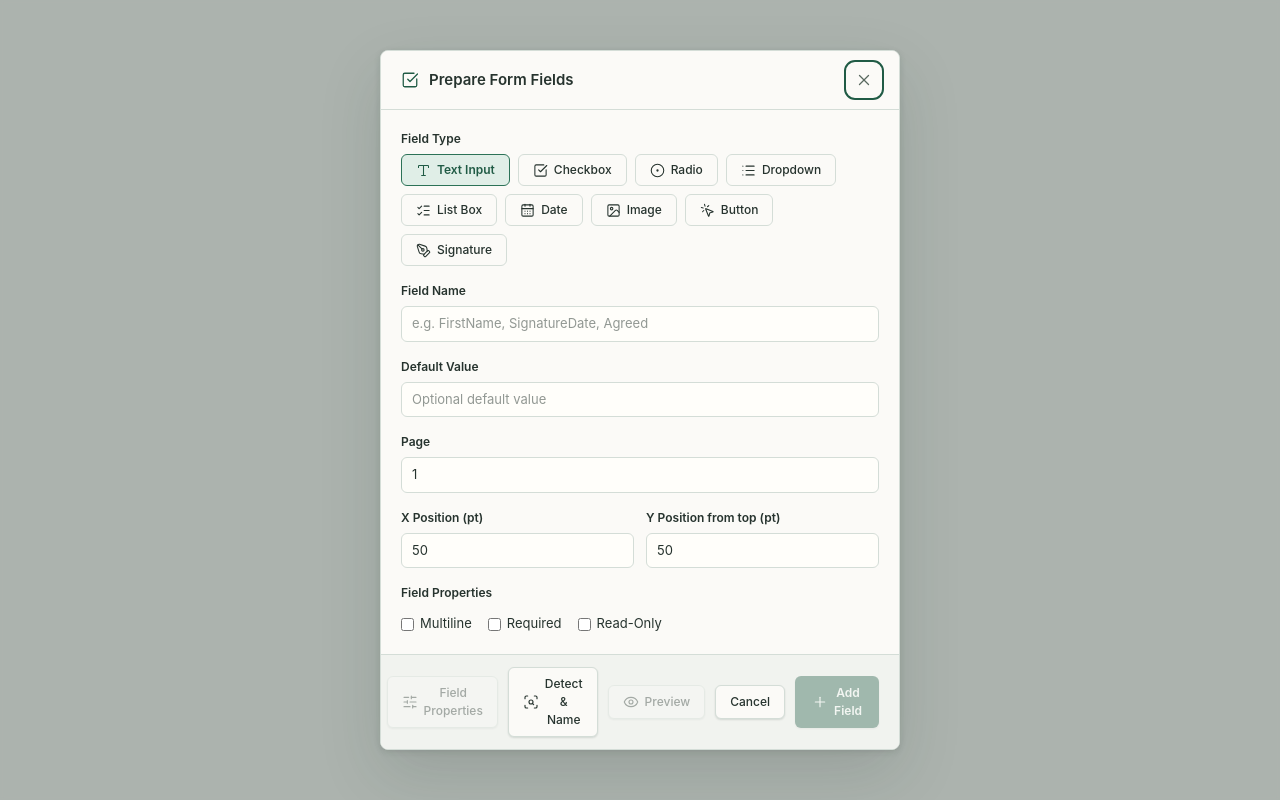
FormManager › renders all supported field types and switches between them
Expected: the button "Text Input" is shown, [401,154,510,186]
Expected: the button "Radio" is shown, [635,154,718,186]
Click the button "Checkbox" at {"x": 572, "y": 170}, box [518,154,627,186]
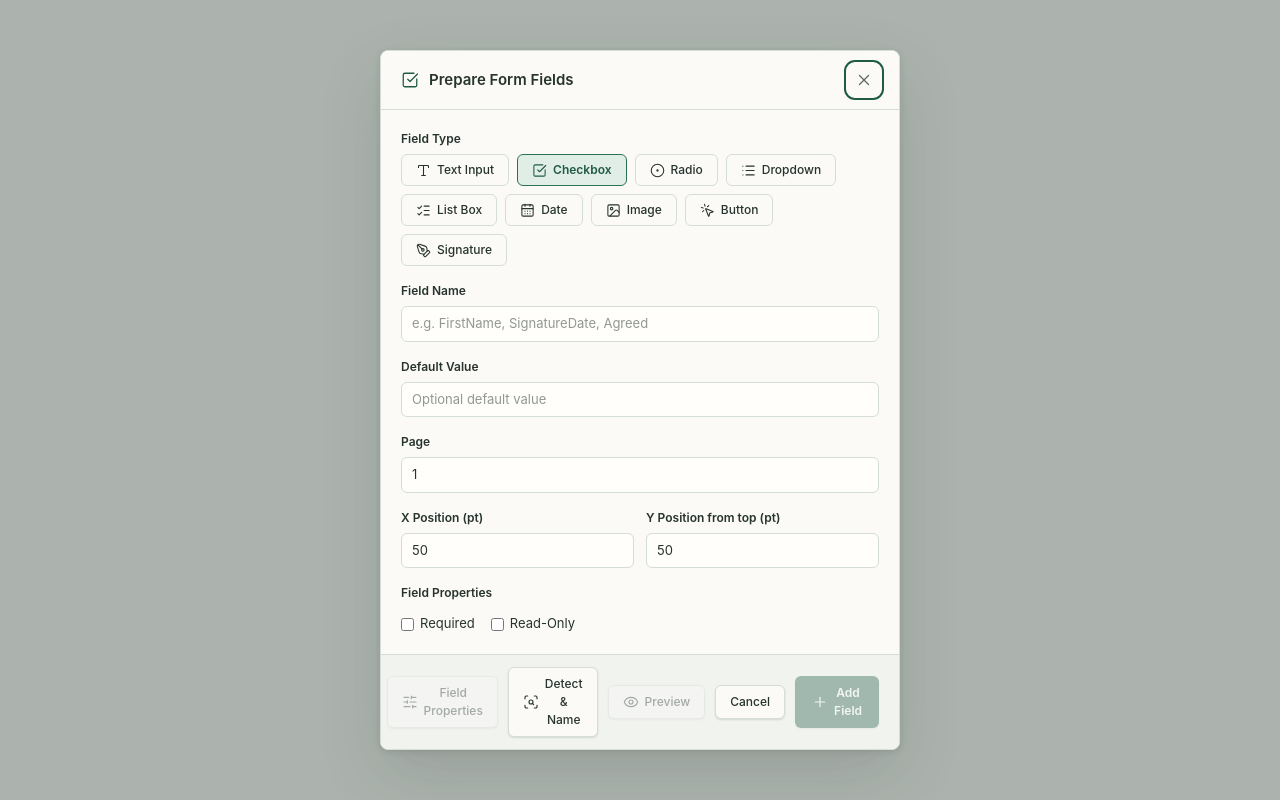
Expected: the text "Field Name" is shown, [401,283,466,298]
Click the button "Radio" at {"x": 676, "y": 170}, box [635,154,718,186]
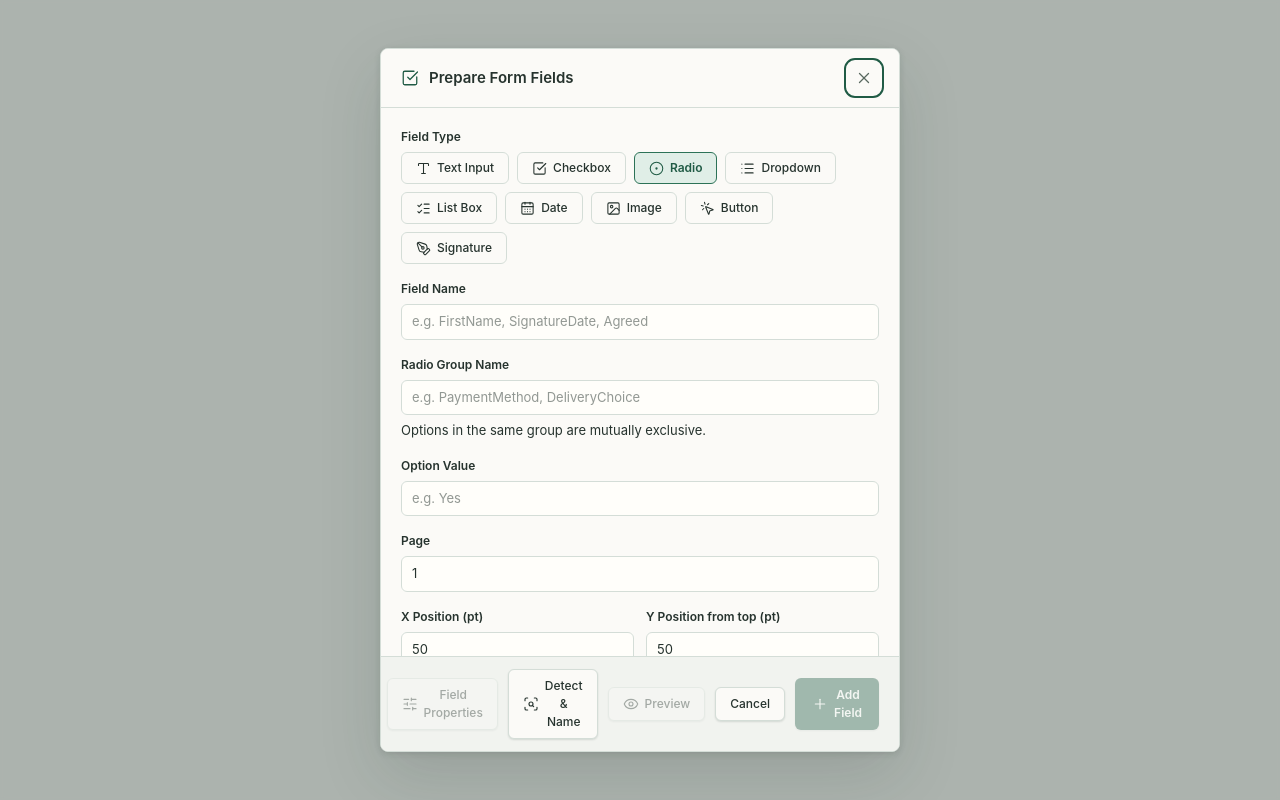
Expected: the text "Radio Group Name" is shown, [401,356,509,372]
Click the button "Dropdown" at {"x": 781, "y": 168}, box [726,152,836,184]
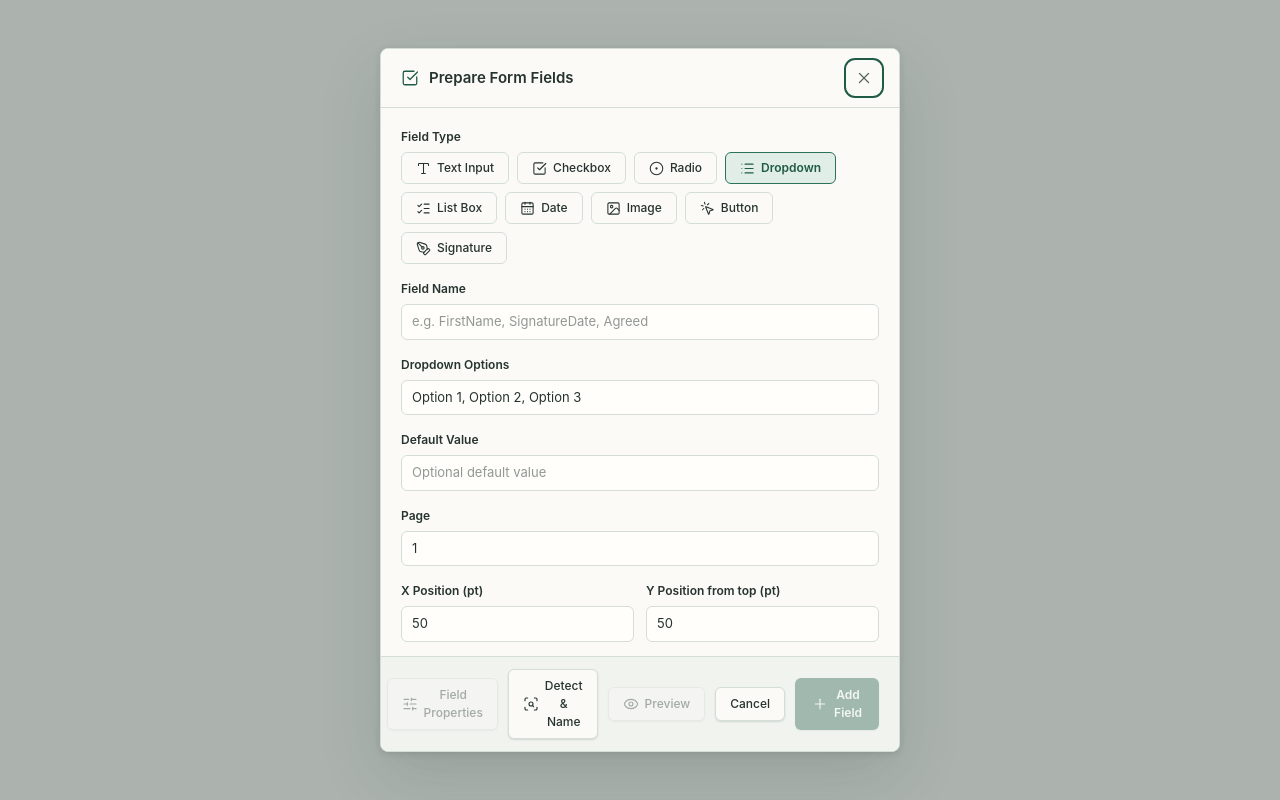
Expected: the text "Dropdown Options" is shown, [401,356,509,372]
